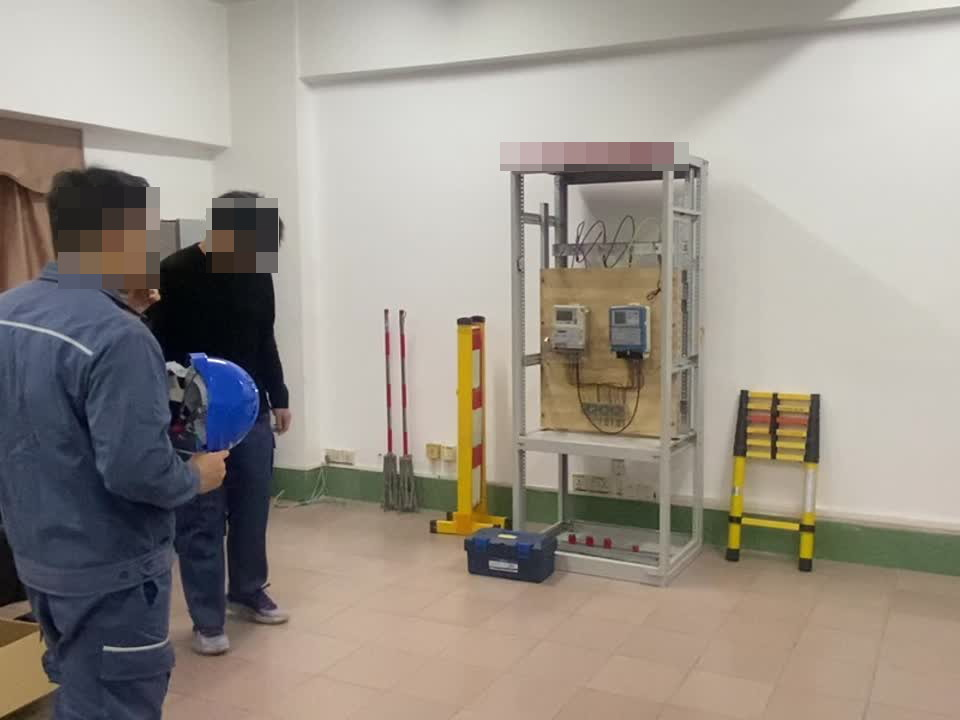downsuit: (173, 424, 279, 622), (25, 590, 177, 720)
hand: (191, 447, 228, 496), (271, 407, 296, 437)
noear: (103, 218, 138, 265), (207, 221, 232, 250)
person: (1, 164, 222, 720), (157, 189, 301, 642)
unhalt: (44, 168, 164, 288), (203, 191, 285, 266)
upcloth: (158, 249, 291, 403)
upsuit: (1, 261, 208, 589)
